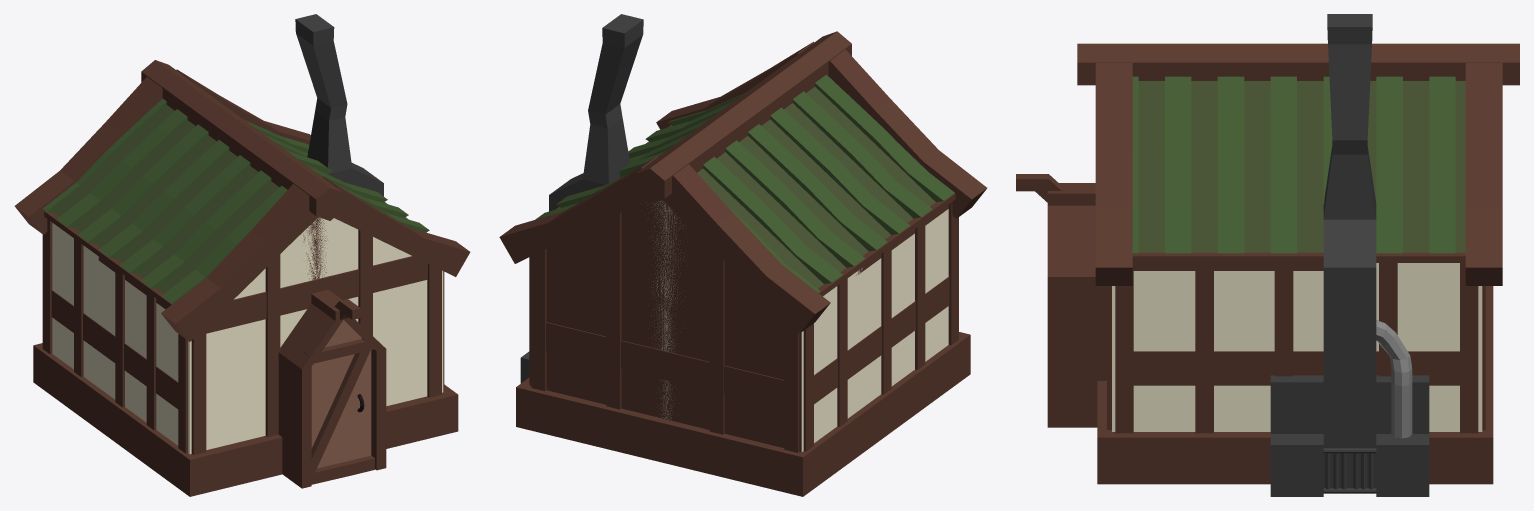
The model's file is Basic_House001.fbx.
3 views of the same model, side by side, from view 1: azimuth 30°, elevation 25°; view 2: azimuth 150°, elevation 25°; view 3: azimuth 270°, elevation 25° (orthographic). The views are drawn at different scales.
Parts seen in each view (by area): view 1: House 001; view 2: House 001; view 3: House 001.
Part boxes in pixels (box(x1,y1,x2,y2)): House 001: box(14, 14, 470, 496); House 001: box(499, 14, 987, 496); House 001: box(1016, 14, 1519, 496).
Size of the model in its own units: 240 by 261 by 272.
